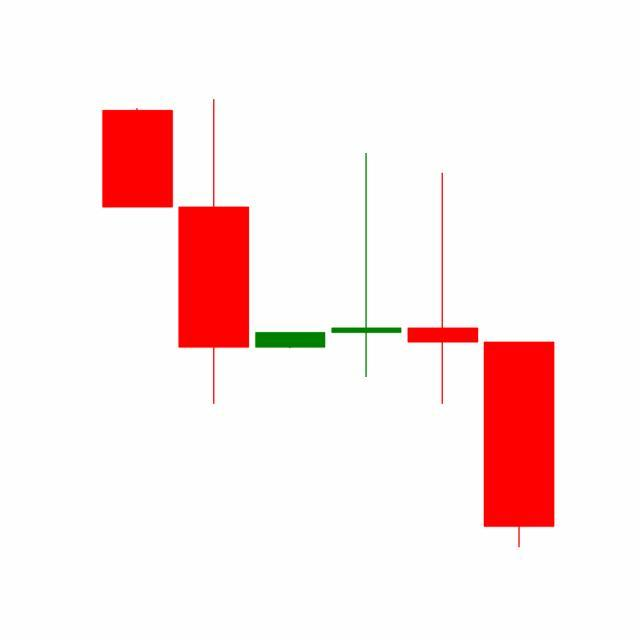Spinning Top: (404, 170, 482, 407)
